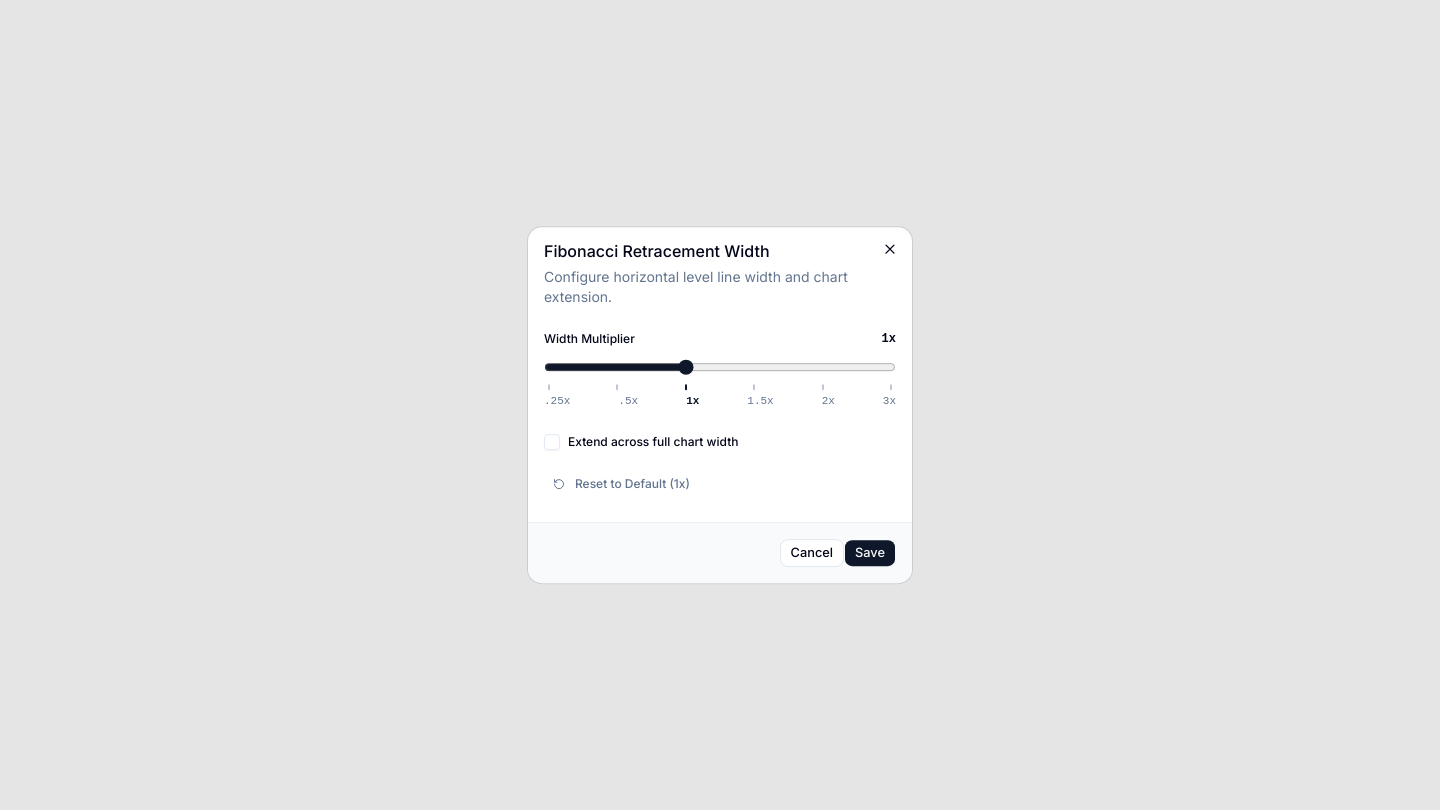
Test: FibWidthModal Component › clicking stop buttons updates the slider and multiplier
The width and height of the screenshot is (1440, 810).
Step 1. Click the button with test id "preset-0.25x" → (557, 402), box x1=544 y1=394 x2=570 y2=410
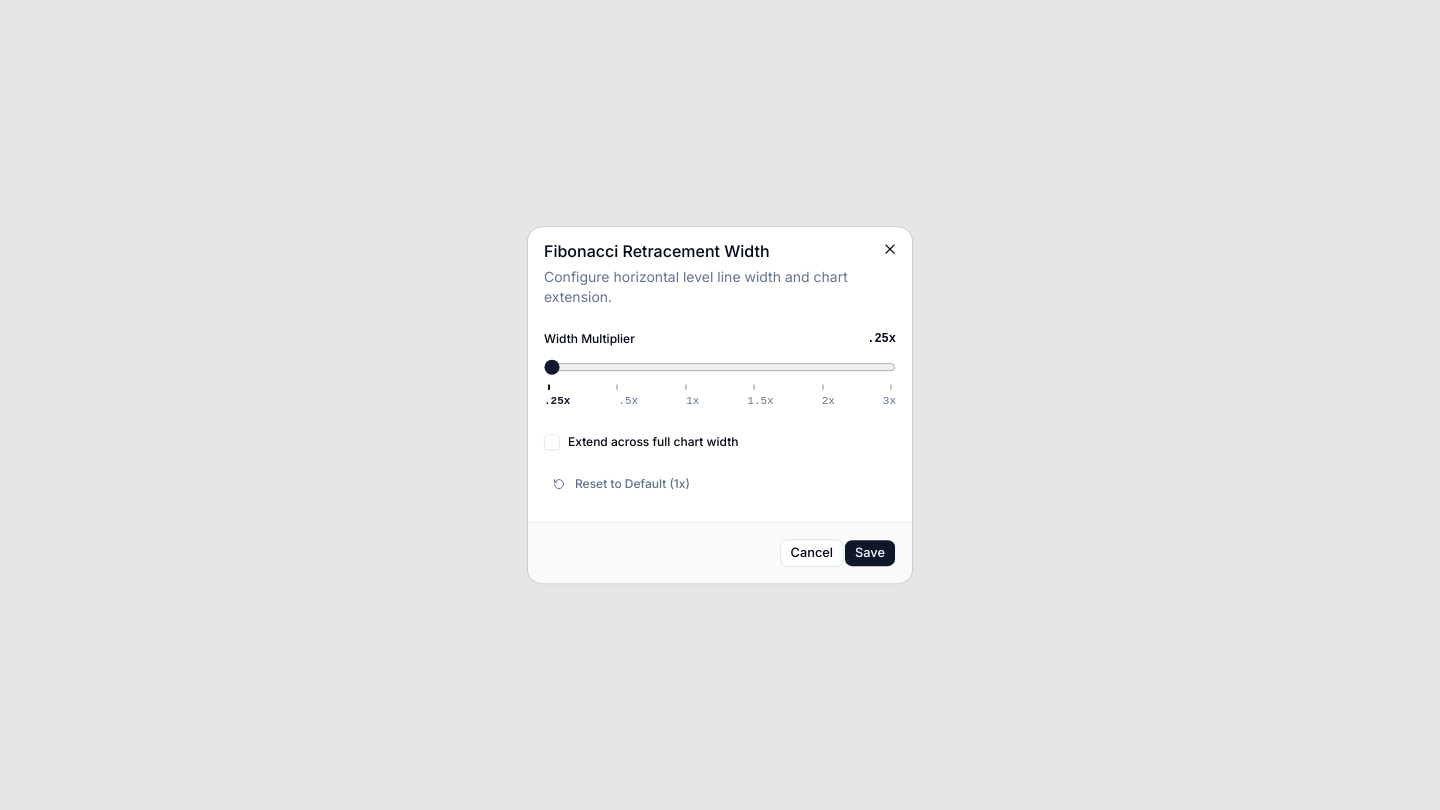
Expected: the slider with test id "fib-width-slider" holds "0", x1=544 y1=359 x2=896 y2=375
Expected: the text with test id "fib-width-multiplier-display" reads ".25x", x1=867 y1=332 x2=896 y2=346
Step 2. Click the button with test id "preset-3x" → (889, 402), box x1=883 y1=394 x2=896 y2=410
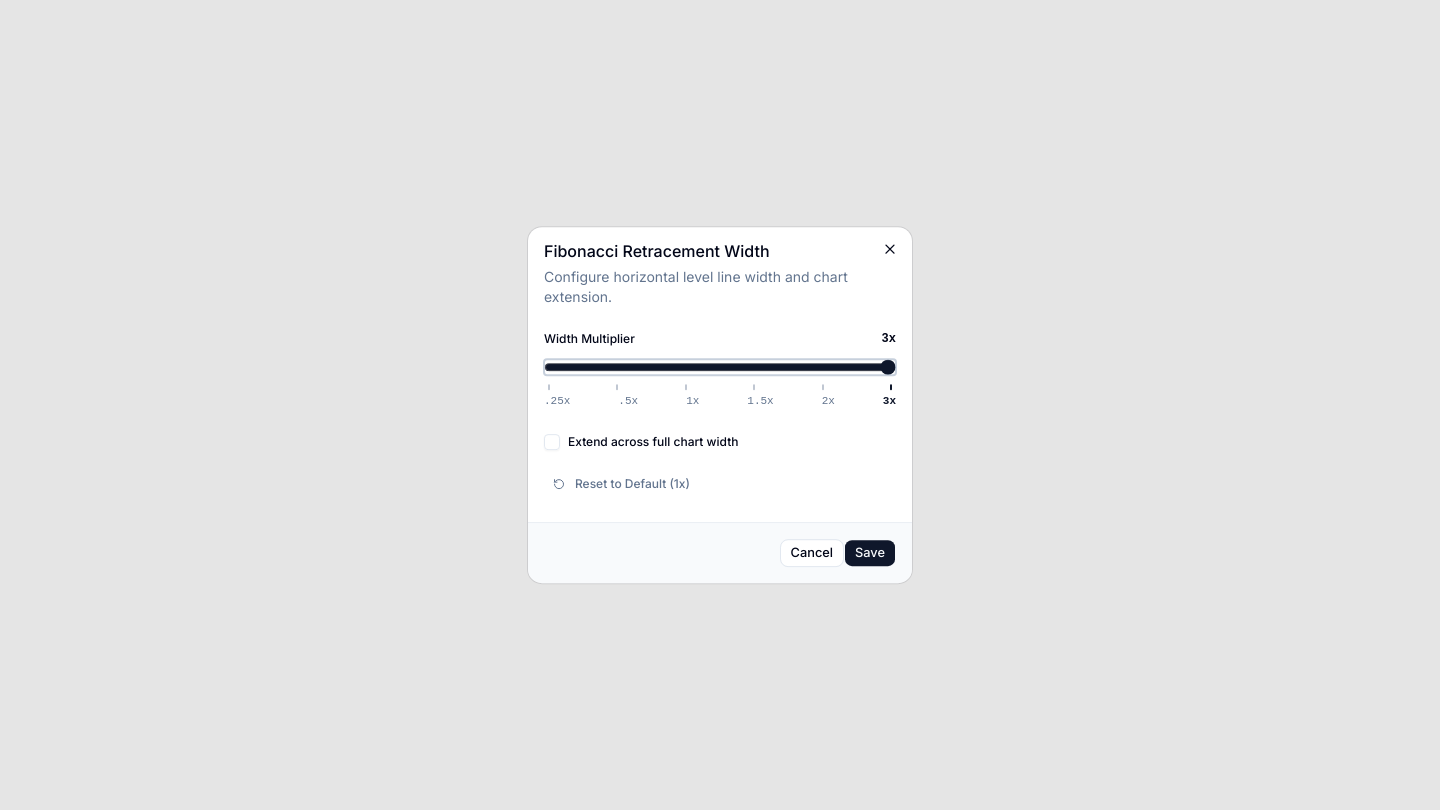
Expected: the slider with test id "fib-width-slider" holds "5", x1=544 y1=359 x2=896 y2=375
Expected: the text with test id "fib-width-multiplier-display" reads "3x", x1=882 y1=332 x2=896 y2=346
